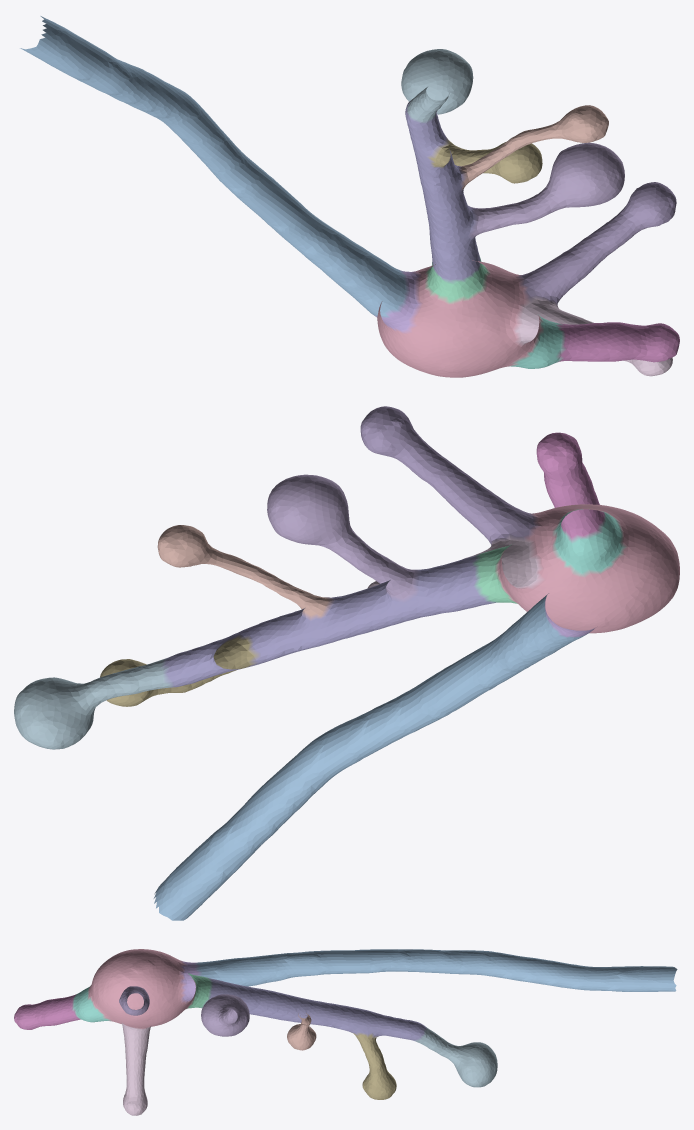
The model's file is lumen_inner.glb.
3 views of the same model, one above another, from view 1: azimuth 30°, elevation 25°; view 2: azimuth 150°, elevation 25°; view 3: azimuth 270°, elevation 25° (orthographic). The views are drawn at different scales.
Parts seen in each view (by area): view 1: world; view 2: world; view 3: world.
Boxes of the visible parts, left/top/right/bottom form: world: left=20, top=16, right=679, bottom=377; world: left=14, top=406, right=679, bottom=920; world: left=14, top=949, right=677, bottom=1115.
Size of the model in its own units: 48.93 by 26.1 by 125.
